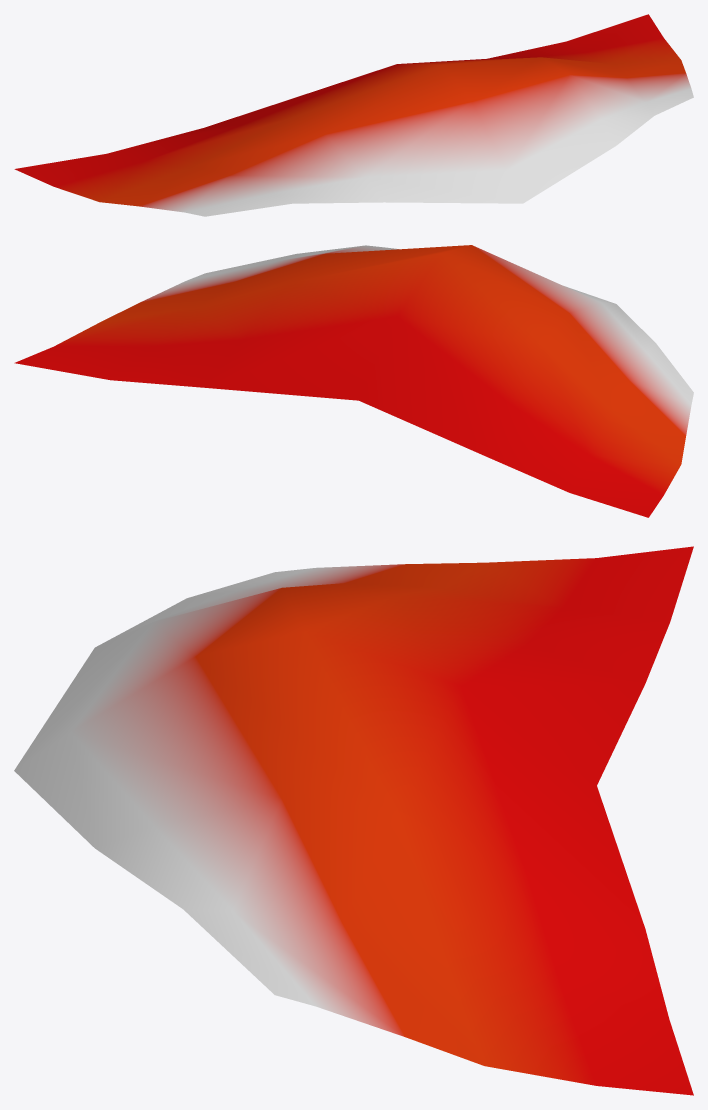
The model's file is MeleeAttack.fbx.
3 views of the same model, one above another, from view 1: azimuth 30°, elevation 25°; view 2: azimuth 150°, elevation 25°; view 3: azimuth 270°, elevation 25° (orthographic). The views are drawn at different scales.
Visible parts, largest first — view 1: pPlane3; view 2: pPlane3; view 3: pPlane3.
Part boxes in pixels (left/top/right/bottom): pPlane3: left=14, top=14, right=693, bottom=216; pPlane3: left=14, top=245, right=693, bottom=517; pPlane3: left=14, top=546, right=693, bottom=1095.
Size of the model in its own units: 20.35 by 3.3 by 10.65.
